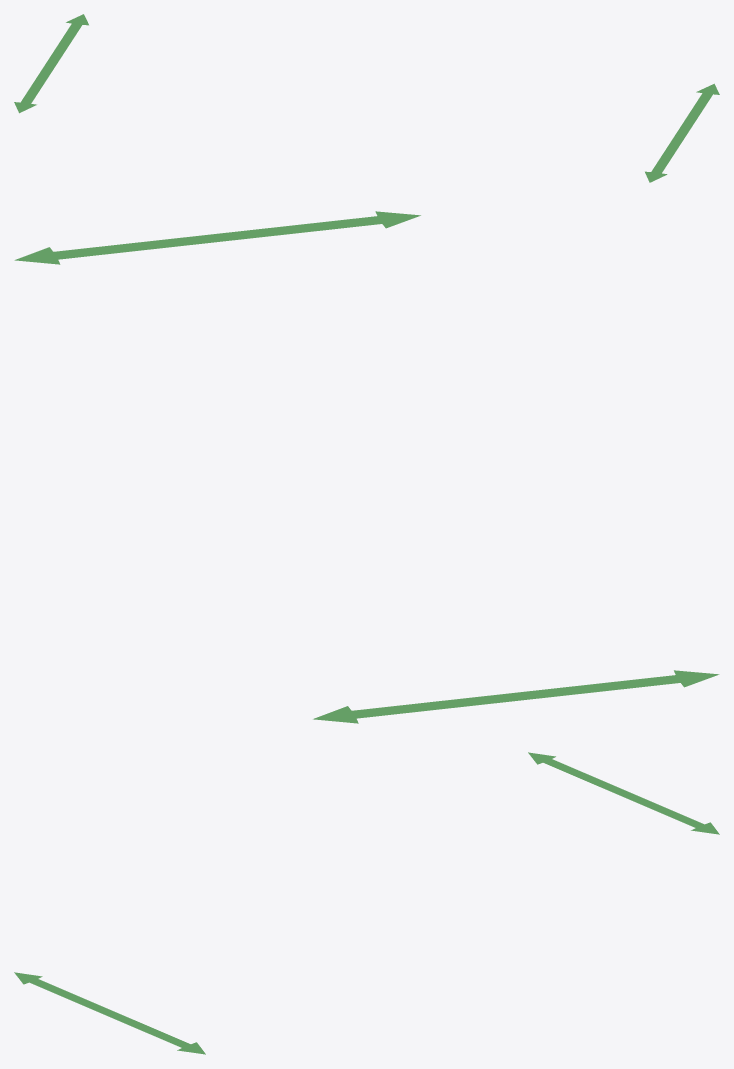
File: arrows1.gltf
3 views of the same model, one above another, from view 1: azimuth 30°, elevation 25°; view 2: azimuth 150°, elevation 25°; view 3: azimuth 270°, elevation 25° (orthographic). The views are drawn at different scales.
Visible parts, largest first — view 1: Plane.010, Plane.009; view 2: Plane.010, Plane.009; view 3: Plane.009, Plane.010.
Part boxes in pixels (bbox=[...]): Plane.010: bbox=[645, 83, 719, 182]; Plane.009: bbox=[14, 14, 88, 113]; Plane.010: bbox=[14, 211, 420, 264]; Plane.009: bbox=[313, 670, 719, 723]; Plane.009: bbox=[528, 752, 719, 834]; Plane.010: bbox=[14, 972, 205, 1054].
Size of the model in its own units: 17.03 by 0 by 16.81.
